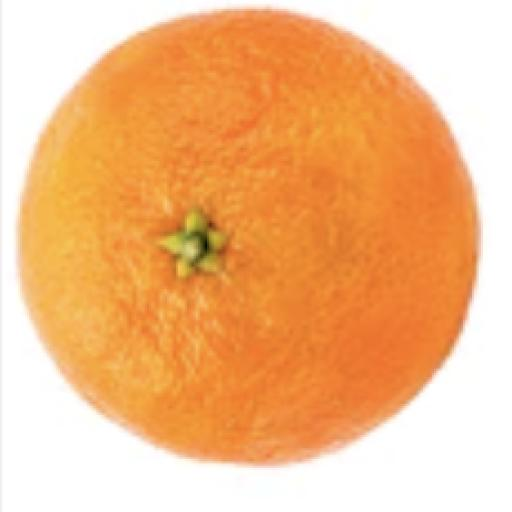orange: (21, 12, 476, 463)
